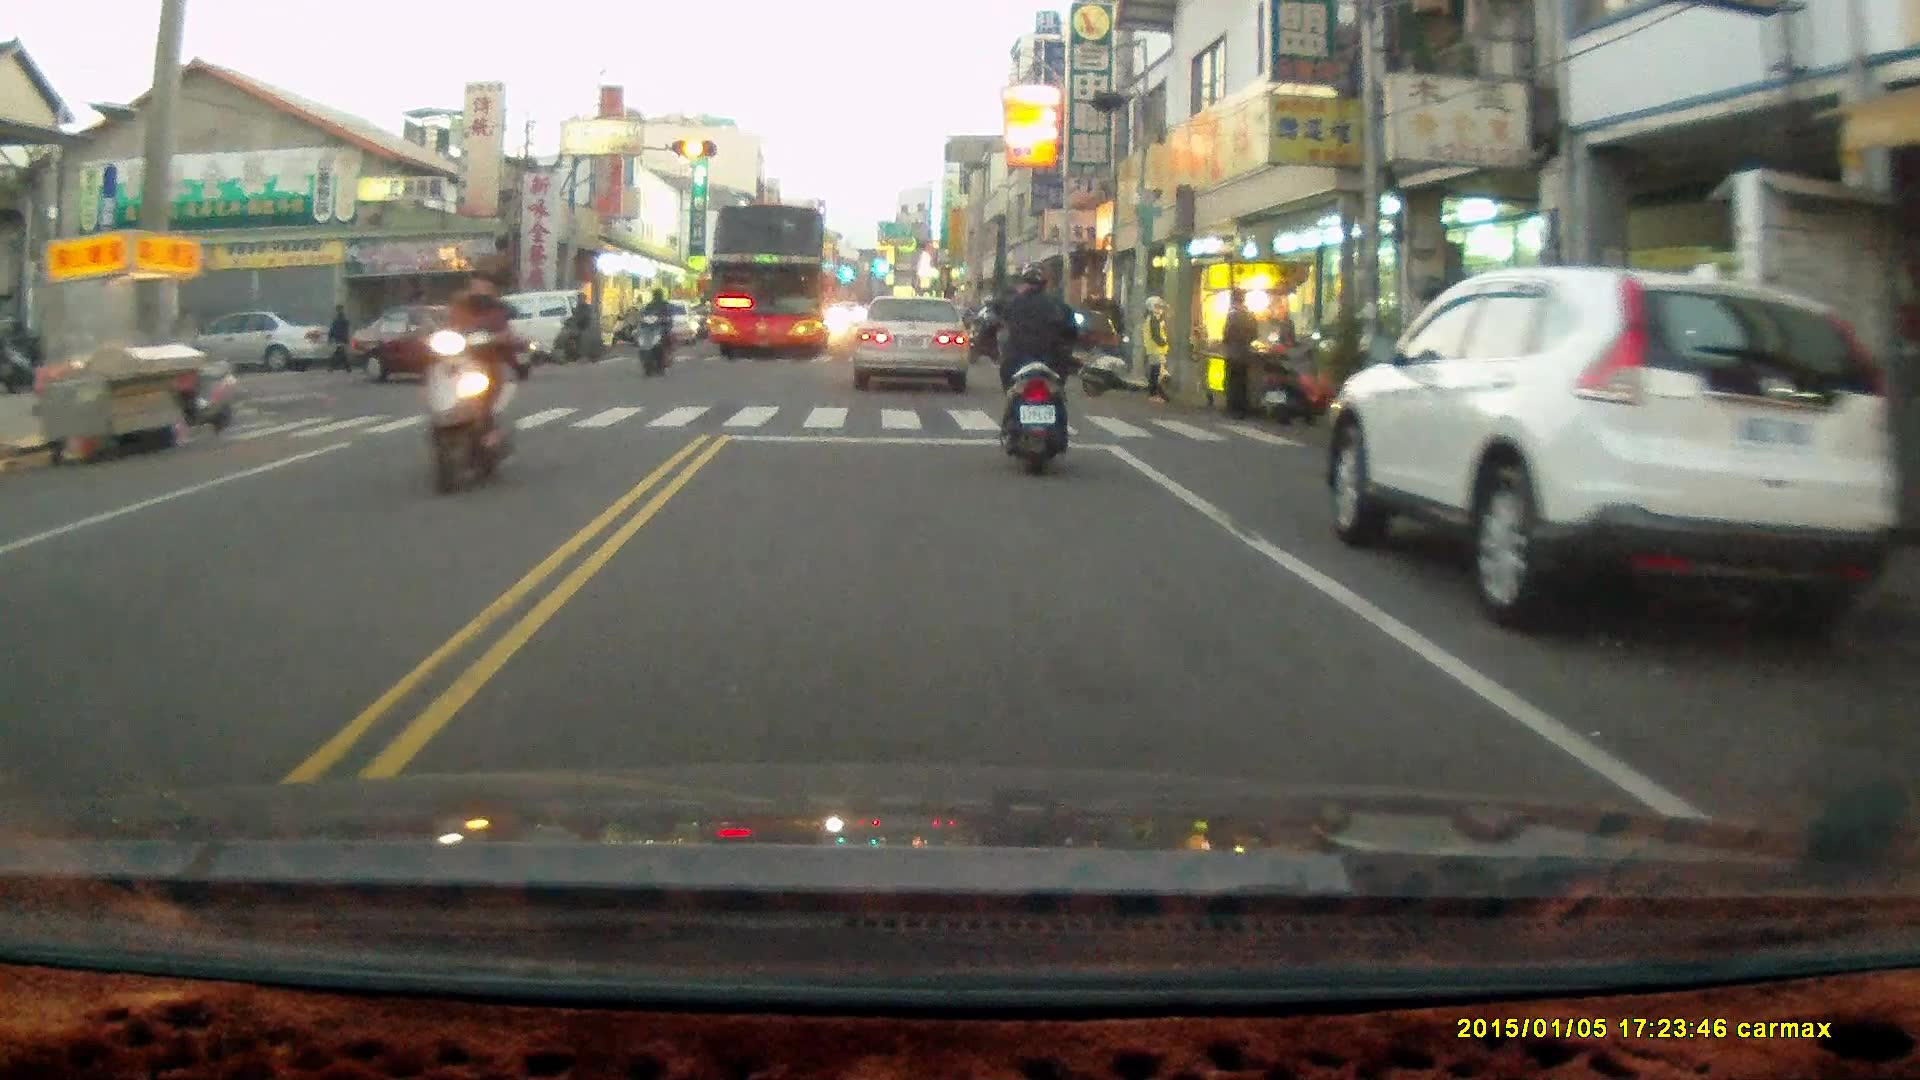pedestrian: (1220, 287, 1259, 426), (1136, 290, 1172, 404), (324, 299, 348, 370)
rider: (413, 256, 523, 495), (982, 257, 1083, 471), (547, 287, 606, 364), (963, 287, 1016, 365), (632, 285, 675, 375)
vehicle: (1325, 263, 1896, 632), (699, 200, 834, 363), (352, 299, 538, 380), (450, 288, 595, 372), (852, 293, 971, 389), (173, 311, 325, 372)
